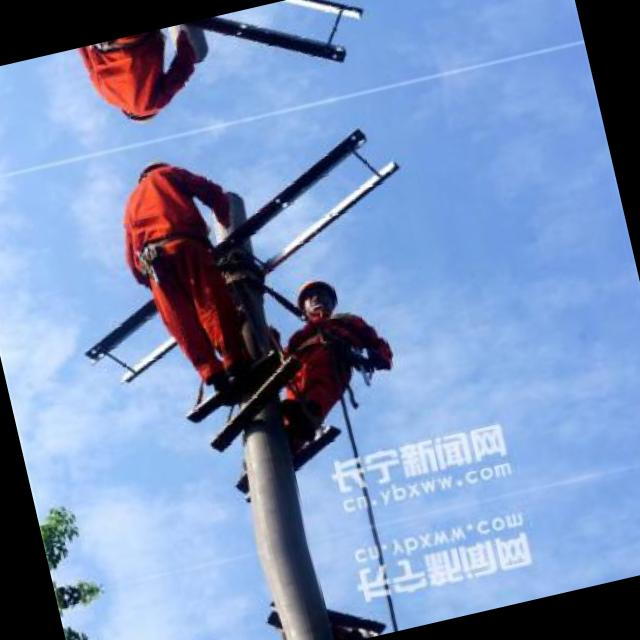helmet: (288, 268, 342, 329)
